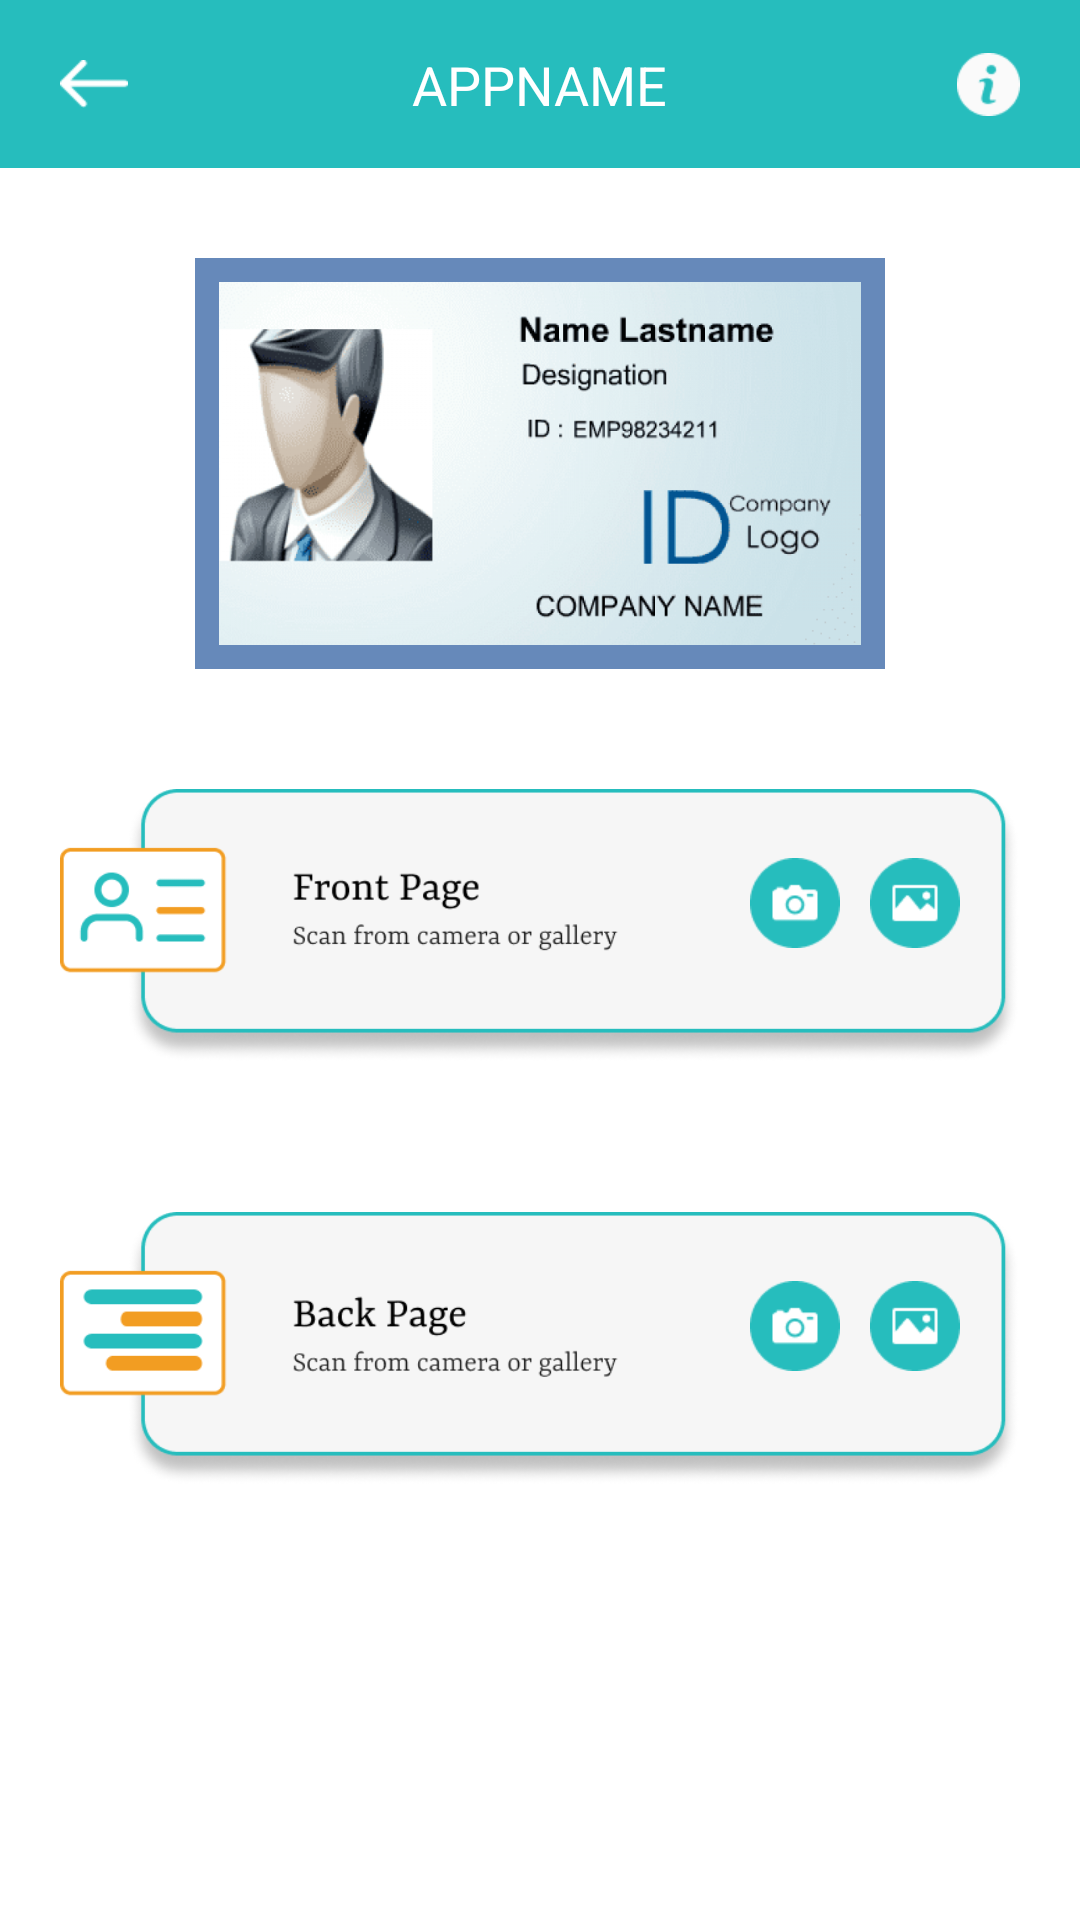

Screen size 1080×1920. Icon name, then its center in pixels as point (x, y):
back: point (94, 84)
